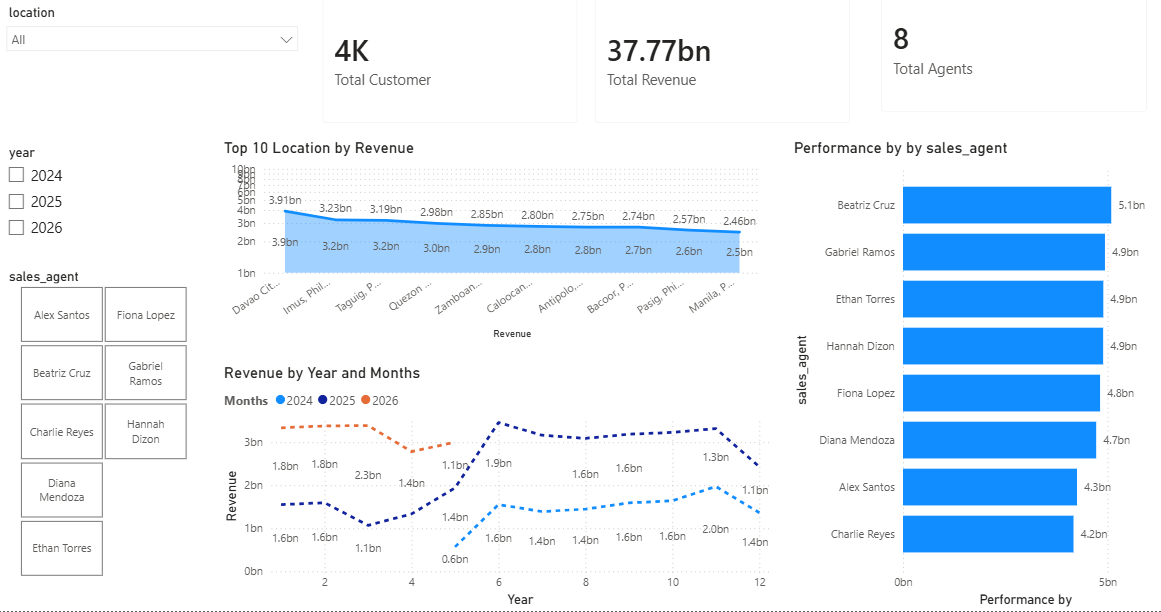

The dashboard page shown, as its layout file describes it:
{"tool":"powerbi","page":{"name":"Year/Month","canvas":[1280,720],"ordinal":0},"visuals":[{"type":"stackedAreaChart","fields":{"Category":["analytics vw_location_revenue.location"],"Y":["Sum(analytics vw_location_revenue.revenue)"]},"box":[244.3,201.7,598.3,225],"z":0},{"type":"stackedAreaChart","fields":{"Category":["analytics vw_monthly_revenue.month"],"Y":["Sum(analytics vw_monthly_revenue.revenue)"],"Series":["analytics vw_monthly_revenue.year"]},"box":[244.3,448.7,607.9,271.7],"z":1000},{"type":"cardVisual","fields":{"Data":["analytics vw_age_segmentation.Total Customer"]},"box":[340.3,24.7,314.2,177],"z":2000},{"type":"cardVisual","fields":{"Data":["analytics vw_agent_performance.Total Agent"]},"box":[953.7,12.3,326.6,177],"z":3000},{"type":"clusteredBarChart","fields":{"Category":["analytics vw_agent_performance.sales_agent"],"Y":["Sum(analytics vw_sales.total_amount)"]},"box":[870,201.7,410.3,518.7],"z":4000},{"type":"cardVisual","fields":{"Data":["Sum(analytics vw_sales.total_amount)"]},"box":[639.5,24.7,314.2,177],"z":5000},{"type":"slicer","fields":{"Values":["analytics vw_sales.location"]},"box":[0,49.4,340.3,129],"z":6000},{"type":"slicer","fields":{"Values":["analytics vw_monthly_revenue.year"]},"box":[0,202.4,232.3,121.2],"z":7000},{"type":"slicer","fields":{"Values":["analytics vw_sales.sales_agent"]},"box":[0,339.2,232.3,349.2],"z":8000}]}

Visuals, with their boxes on the page's 1280x720 design canvas (x1, y1, x2, y2). These are canvas units, not pixel positions in the 1161x612 screenshot, which may show the page scaled, cropped or inside an application window:
stackedAreaChart - analytics vw_location_revenue.location x Sum(analytics vw_location_revenue.revenue): [244,202,843,427]
stackedAreaChart - analytics vw_monthly_revenue.month x Sum(analytics vw_monthly_revenue.revenue): [244,449,852,720]
cardVisual - analytics vw_age_segmentation.Total Customer: [340,25,654,202]
cardVisual - analytics vw_agent_performance.Total Agent: [954,12,1280,189]
clusteredBarChart - analytics vw_agent_performance.sales_agent x Sum(analytics vw_sales.total_amount): [870,202,1280,720]
cardVisual - Sum(analytics vw_sales.total_amount): [640,25,954,202]
slicer - analytics vw_sales.location: [0,49,340,178]
slicer - analytics vw_monthly_revenue.year: [0,202,232,324]
slicer - analytics vw_sales.sales_agent: [0,339,232,688]
